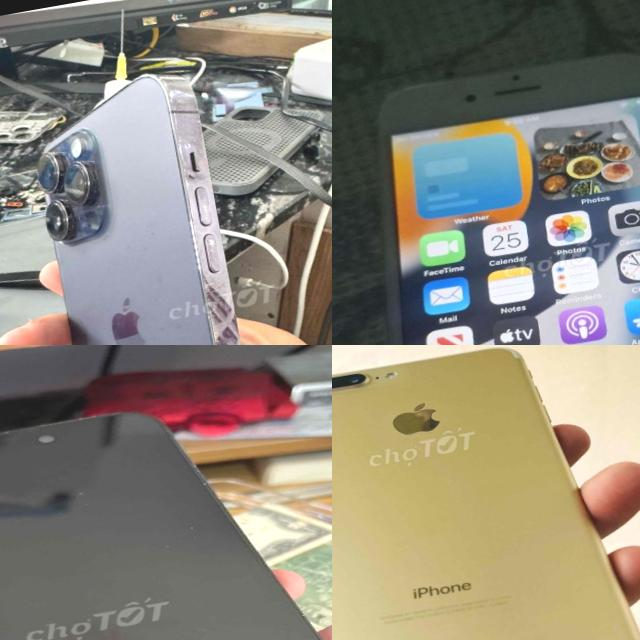gen_14: (0, 368, 332, 640), (0, 53, 309, 345)
gen_6: (332, 28, 640, 345)
gen_7_8: (332, 348, 640, 640)
